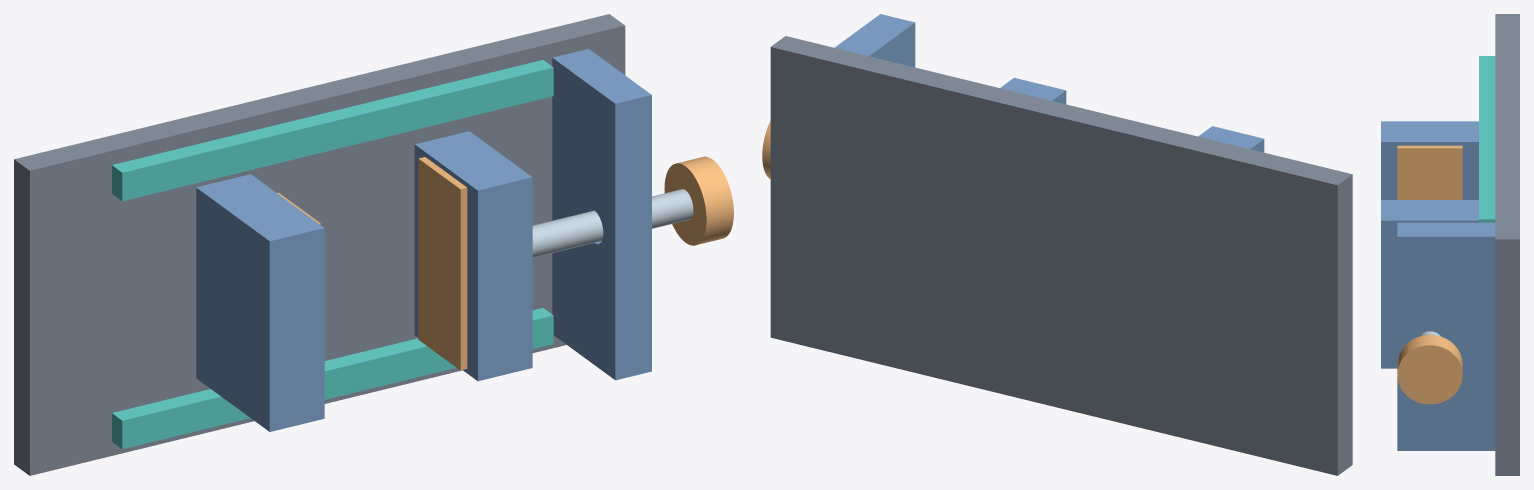
Rendered from assembly.glb.
3 renders of one model, left to right at view 1: azimuth 30°, elevation 25°; view 2: azimuth 150°, elevation 25°; view 3: azimuth 270°, elevation 25°, orthographic. The views are drawn at different scales.
Visible parts, largest first — view 1: base, fixed_jaw, actuator_support, rail_right, moving_jaw, rail_left, moving_pad, knob, rod; view 2: base, actuator_support, moving_jaw, fixed_jaw; view 3: actuator_support, base, moving_jaw, fixed_jaw, knob, fixed_pad, rail_right.
Part boxes in pixels (left/top/right/bottom): base: left=14, top=14, right=625, bottom=475; fixed_jaw: left=196, top=174, right=324, bottom=431; actuator_support: left=552, top=48, right=651, bottom=380; rail_right: left=112, top=60, right=553, bottom=201; moving_jaw: left=414, top=131, right=532, bottom=381; rail_left: left=112, top=308, right=553, bottom=449; moving_pad: left=418, top=157, right=467, bottom=370; knob: left=664, top=156, right=733, bottom=245; rod: left=532, top=189, right=693, bottom=257; base: left=770, top=36, right=1352, bottom=475; actuator_support: left=834, top=14, right=915, bottom=67; moving_jaw: left=1000, top=77, right=1066, bottom=104; fixed_jaw: left=1198, top=126, right=1264, bottom=152; actuator_support: left=1397, top=222, right=1495, bottom=450; base: left=1495, top=14, right=1519, bottom=475; moving_jaw: left=1381, top=200, right=1478, bottom=368; fixed_jaw: left=1381, top=121, right=1478, bottom=199; knob: left=1397, top=335, right=1462, bottom=404; fixed_pad: left=1397, top=145, right=1462, bottom=199; rail_right: left=1479, top=56, right=1495, bottom=222.
Bounding box in the file's own units: 0.134 × 0.061 × 0.0324.
